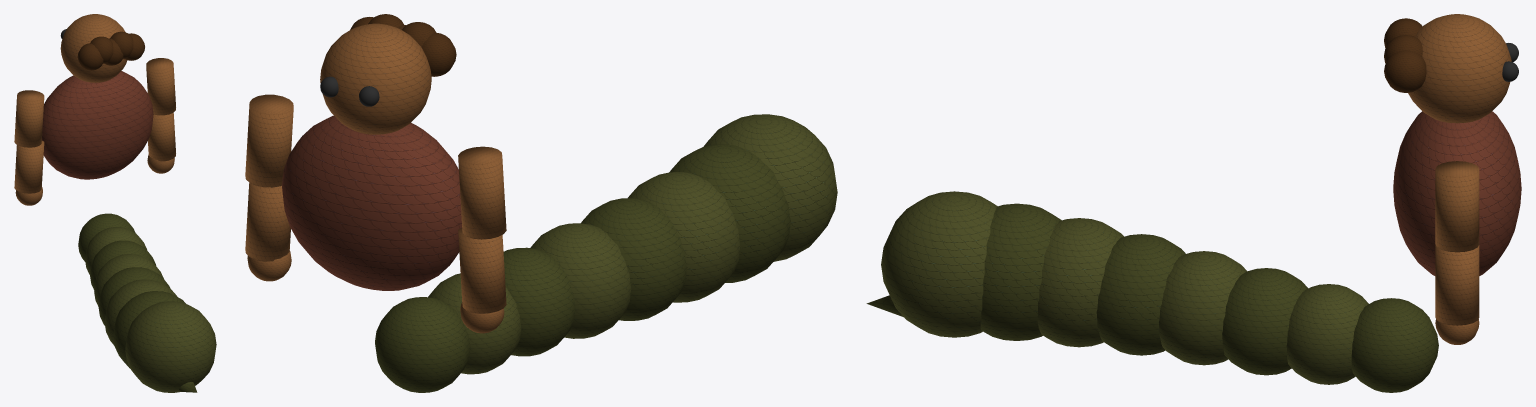
File: lamia.glb
The picture shows the model from 3 angles, left to right: view 1: azimuth 30°, elevation 25°; view 2: azimuth 150°, elevation 25°; view 3: azimuth 270°, elevation 25°; orthographic projection. The views are drawn at different scales.
Parts seen in each view (by area): view 1: Torso, Segment, Head, UpperArm.001, UpperArm, Segment.001, Forearm.001, Segment.002, Forearm, Segment.003, Segment.004, Segment.005 (+9 smaller); view 2: Torso, Head, Segment, Segment.001, Segment.002, Segment.007, Segment.003, Segment.004, Segment.005, UpperArm.001, UpperArm, Forearm.001 (+5 smaller); view 3: Segment, Torso, Head, Segment.001, Segment.002, Segment.003, Segment.004, Segment.007, Segment.005, Segment.006, UpperArm, Forearm (+3 smaller).
Boxes of the visible parts, box(x1,y1,x2,y2) form: Torso: box(42, 71, 153, 179); Segment: box(125, 301, 216, 392); Head: box(60, 14, 127, 82); UpperArm.001: box(14, 90, 44, 147); UpperArm: box(146, 58, 175, 115); Segment.001: box(113, 291, 185, 368); Forearm.001: box(14, 140, 44, 193); Segment.002: box(104, 279, 177, 345); Forearm: box(148, 112, 175, 161); Segment.003: box(98, 267, 169, 325); Segment.004: box(94, 254, 164, 306); Segment.005: box(90, 240, 156, 289); Torso: box(282, 115, 461, 290); Head: box(320, 23, 431, 134); Segment: box(703, 114, 837, 261); Segment.001: box(669, 144, 790, 282); Segment.002: box(628, 172, 740, 302); Segment.007: box(375, 297, 470, 392); Segment.003: box(581, 198, 686, 320); Segment.004: box(530, 223, 631, 338); Segment.005: box(503, 247, 575, 356); UpperArm.001: box(458, 146, 506, 239); UpperArm: box(245, 94, 293, 187); Forearm.001: box(458, 228, 506, 313); Segment: box(881, 191, 997, 337); Torso: box(1393, 111, 1521, 275); Head: box(1408, 14, 1511, 123); Segment.001: box(980, 203, 1061, 340); Segment.002: box(1037, 218, 1123, 347); Segment.003: box(1096, 234, 1185, 355); Segment.004: box(1159, 251, 1247, 365); Segment.007: box(1351, 298, 1438, 392); Segment.005: box(1222, 268, 1308, 375); Segment.006: box(1286, 284, 1368, 384); UpperArm: box(1435, 161, 1479, 252); Forearm: box(1435, 244, 1479, 325).
Size of the model in its own units: 1.01 by 1.13 by 1.78.
6 materials, 5 textured.
